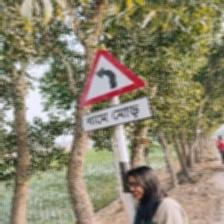Left-Turn: (78, 47, 152, 135)
